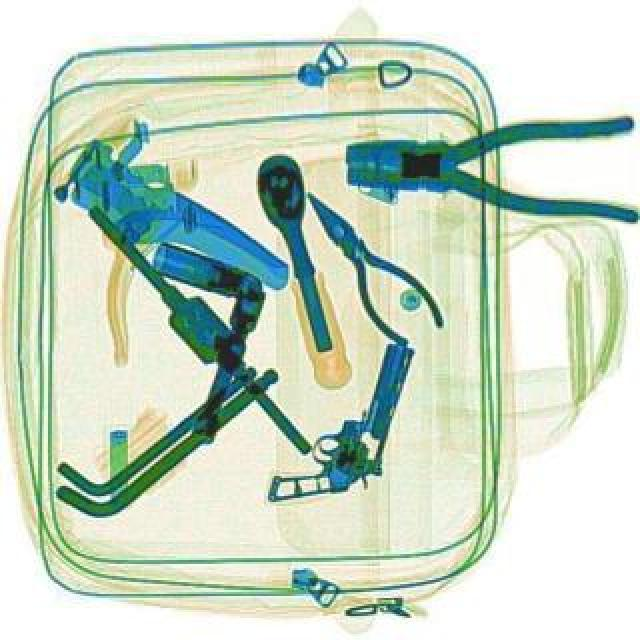gun: (264, 320, 416, 524)
wrench: (342, 114, 638, 222), (280, 174, 452, 358)
